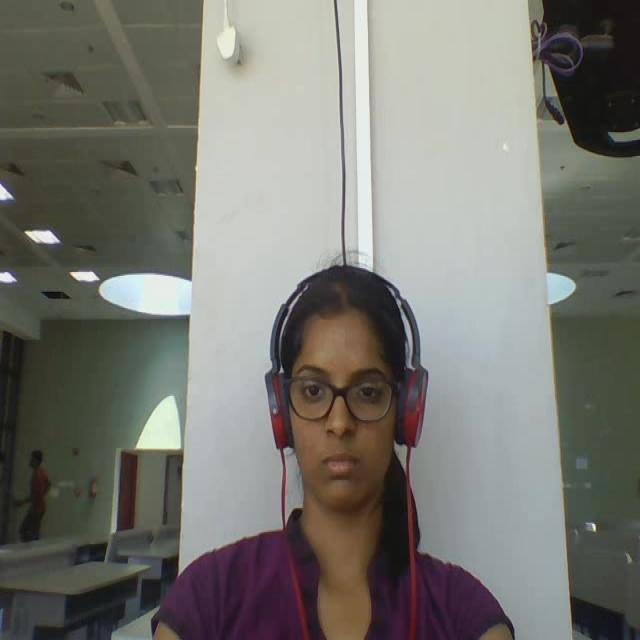Engaged: (242, 258, 446, 584)
